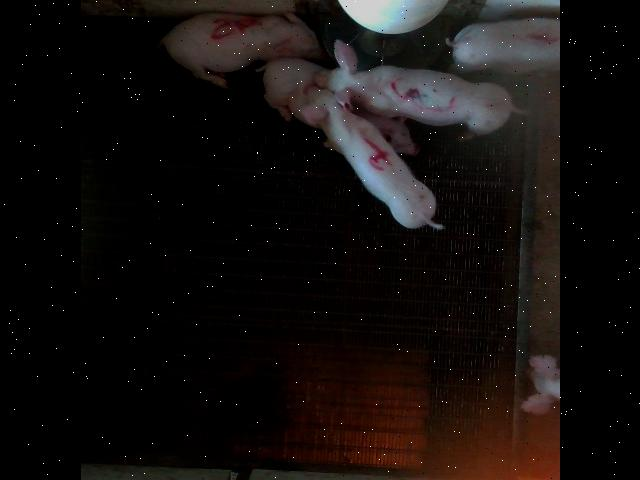pig-1: (445, 18, 558, 74)
pig-3: (314, 41, 516, 135)
pig-4: (301, 86, 441, 229)
pig-5: (158, 12, 327, 89)
